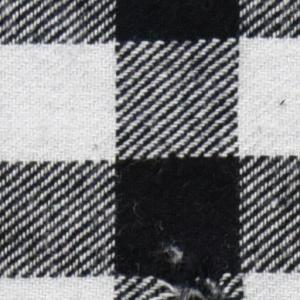Damage: (149, 269, 231, 300)
